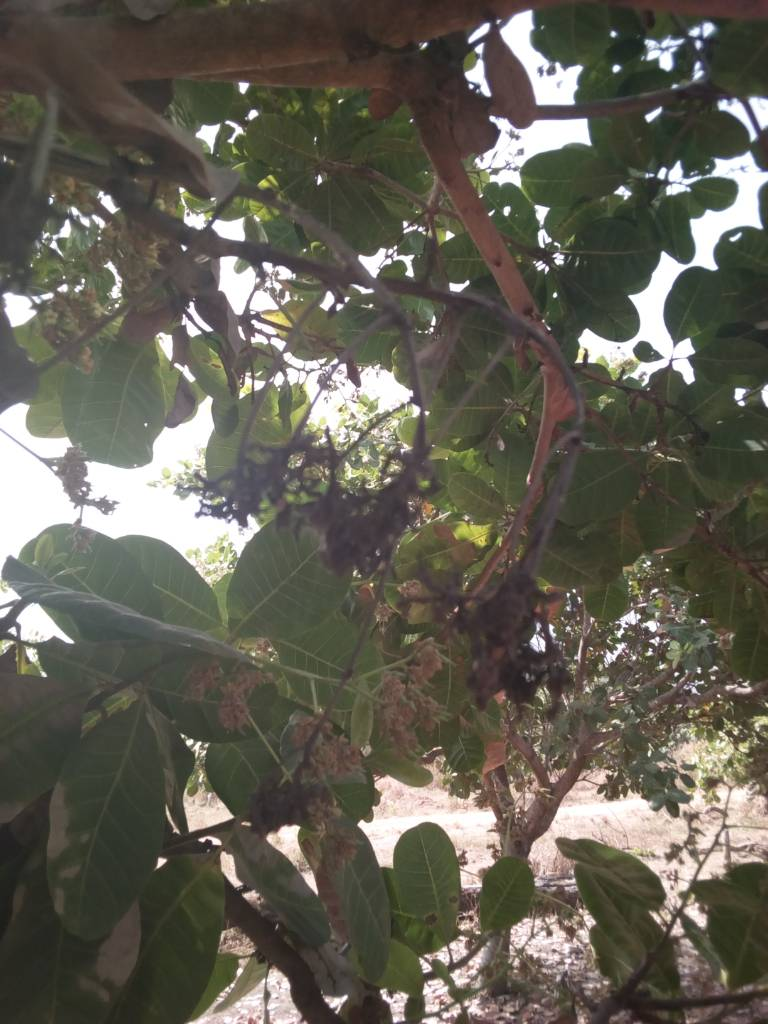Dessèchement des bourgeons: (205, 427, 435, 580), (408, 577, 572, 700), (247, 767, 330, 833)
